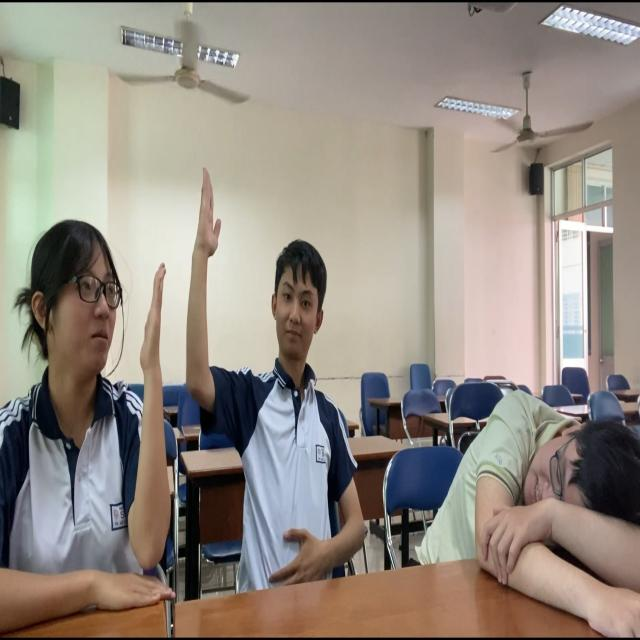raise_hand: (189, 169, 384, 608), (1, 204, 168, 640)
sleep: (418, 369, 640, 627)
